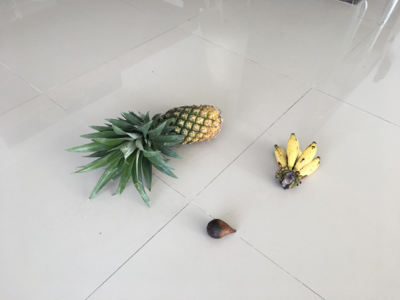banana: (273, 132, 322, 191)
pineapple: (66, 103, 222, 204)
snake fruit: (207, 219, 238, 240)
